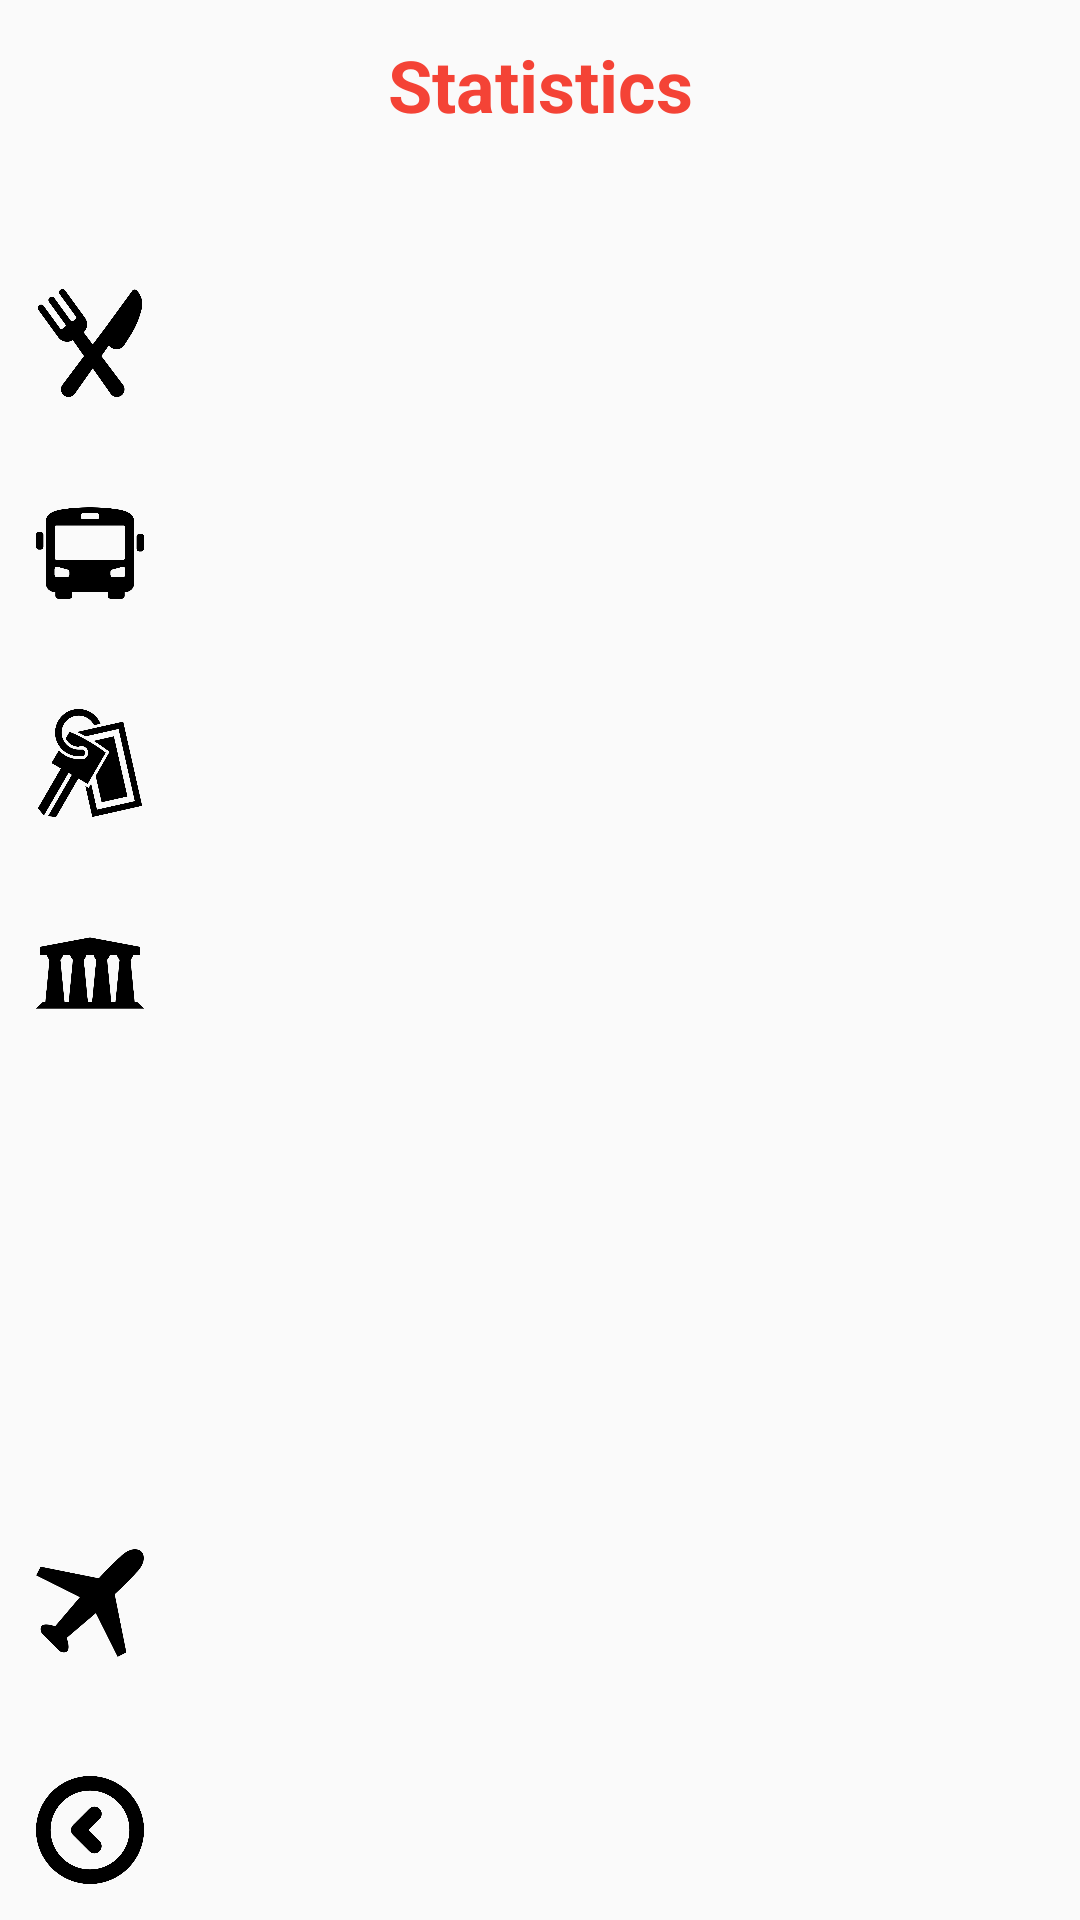

Icons on this 1080*1920 Android screen, each with the point to tap as point (x, y):
accommodation: point (90, 763)
activities: point (90, 973)
food: point (90, 343)
going: point (90, 1603)
return: point (90, 1830)
transport: point (90, 553)
